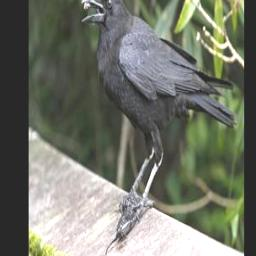Crow: (80, 0, 237, 224)
